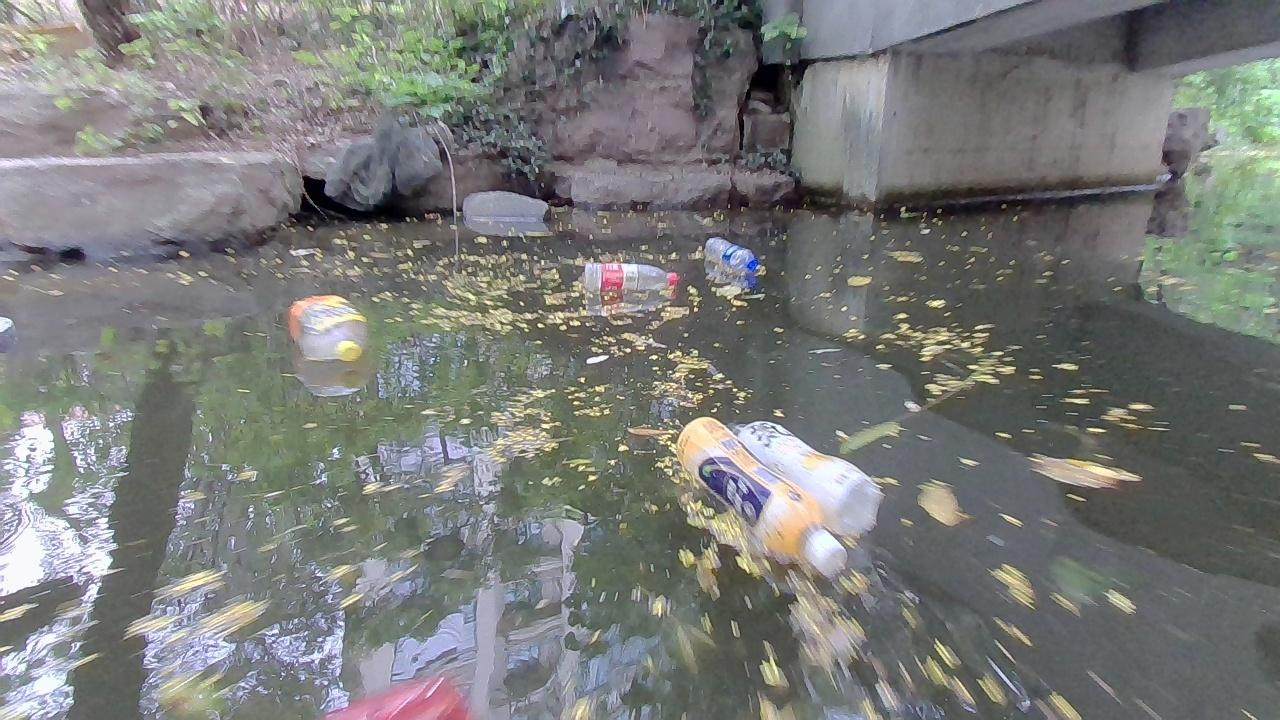bottle: (676, 413, 850, 569), (734, 421, 876, 532), (290, 290, 366, 366), (581, 259, 679, 288), (698, 235, 760, 272)
